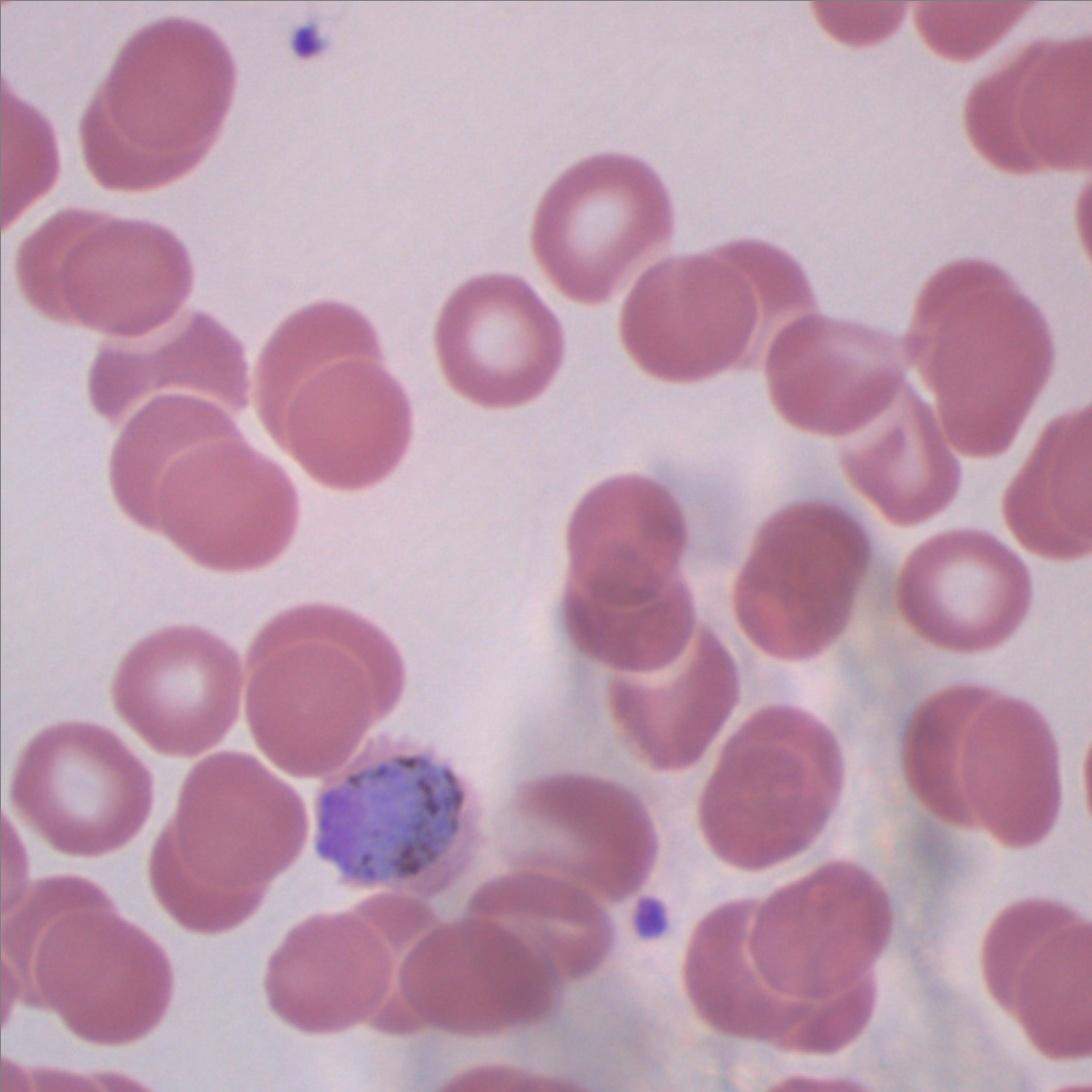Infected: (307, 728, 482, 906)
Uninfected: (910, 260, 1052, 464), (243, 608, 405, 778), (530, 148, 680, 309), (697, 706, 843, 867), (820, 373, 960, 534), (738, 860, 890, 1006), (733, 503, 869, 664), (765, 308, 928, 437), (150, 434, 297, 573), (115, 391, 258, 530), (11, 721, 153, 860), (177, 751, 303, 907), (101, 18, 237, 161), (680, 238, 817, 379), (253, 296, 378, 450), (609, 628, 742, 771), (29, 907, 167, 1044), (91, 309, 251, 427), (892, 523, 1035, 655), (435, 268, 567, 410), (399, 916, 553, 1034), (282, 356, 412, 495), (965, 30, 1087, 178), (515, 775, 655, 903), (470, 866, 623, 983), (113, 627, 244, 762), (685, 903, 805, 1046), (620, 253, 758, 377), (952, 690, 1061, 846), (0, 873, 122, 1012), (269, 912, 399, 1034), (145, 808, 265, 938), (77, 86, 227, 188), (564, 558, 697, 673), (59, 219, 188, 334), (905, 681, 1000, 821), (564, 473, 681, 583)
